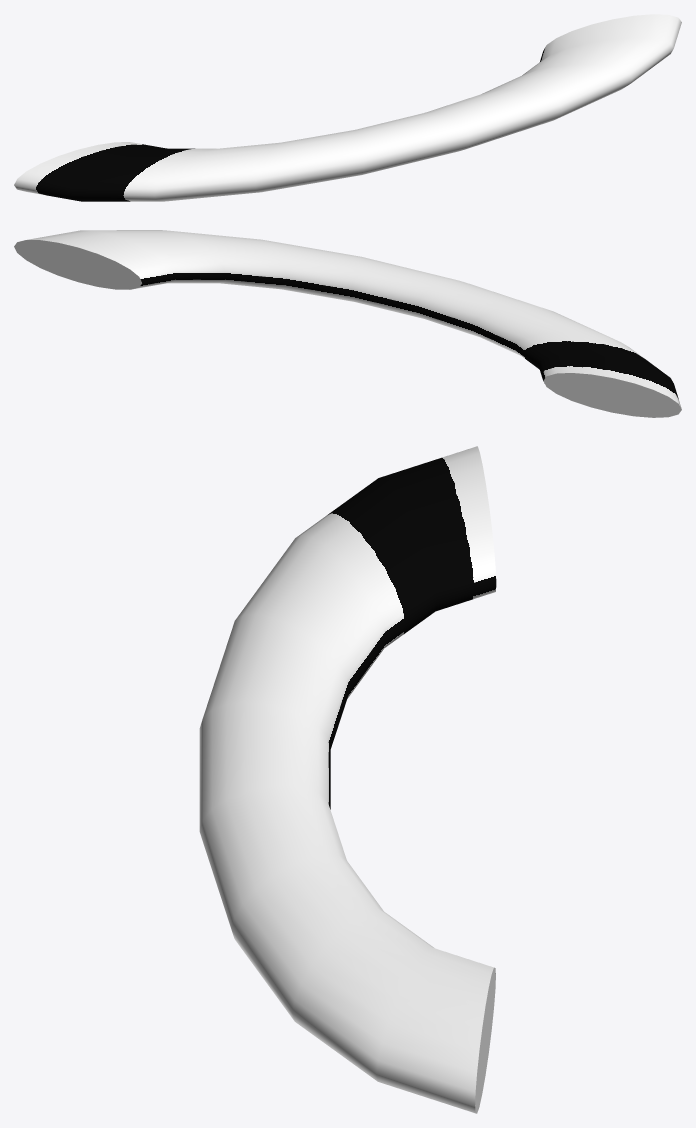
File: wave2.obj
3 views of the same model, one above another, from view 1: azimuth 30°, elevation 25°; view 2: azimuth 150°, elevation 25°; view 3: azimuth 270°, elevation 25° (orthographic). The views are drawn at different scales.
Parts seen in each view (by area): view 1: pTorus1; view 2: pTorus1; view 3: pTorus1.
Part boxes in pixels (left/top/right/bottom): pTorus1: left=14, top=14, right=681, bottom=201; pTorus1: left=14, top=230, right=681, bottom=417; pTorus1: left=199, top=446, right=496, bottom=1113.
Bounding box in the file's own units: 10.06 × 0.5 × 1.94.
